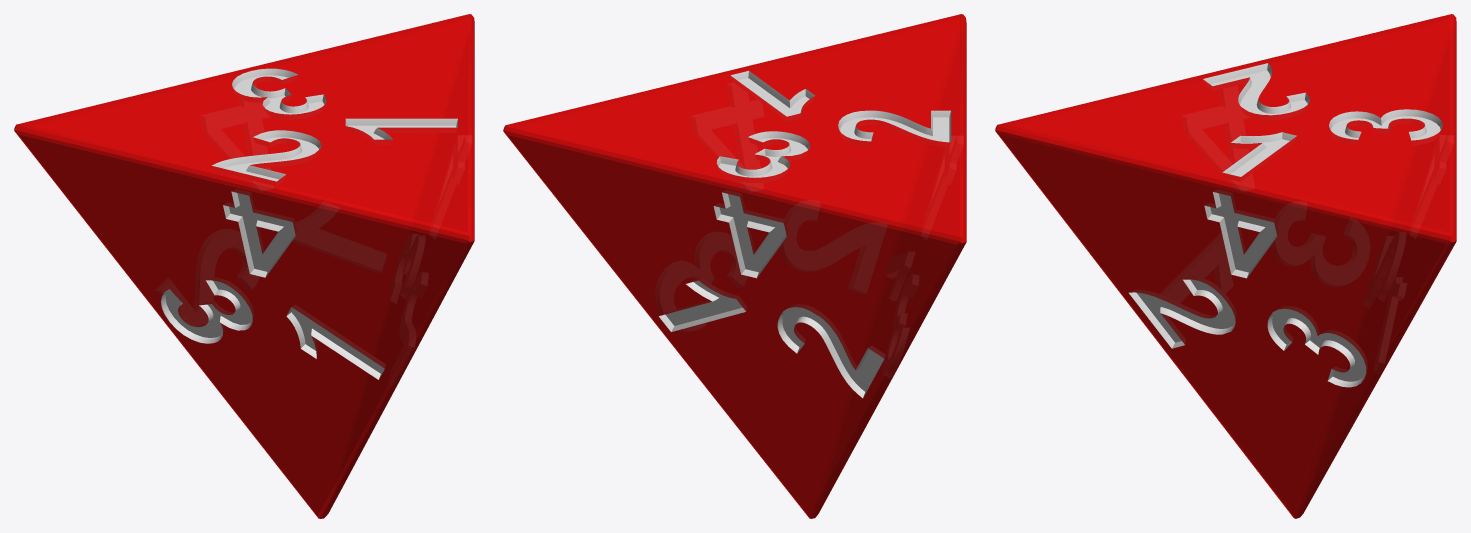
The picture shows the model from 3 angles, left to right: view 1: azimuth 30°, elevation 25°; view 2: azimuth 150°, elevation 25°; view 3: azimuth 270°, elevation 25°; orthographic projection.
Visible parts, largest first — view 1: export.003; view 2: export.003; view 3: export.003.
Boxes of the visible parts, left/top/right/bottom form: export.003: left=14, top=14, right=474, bottom=518; export.003: left=503, top=14, right=966, bottom=518; export.003: left=995, top=14, right=1456, bottom=518.
Bounding box in the file's own units: 0.0536 × 0.0438 × 0.0466.
